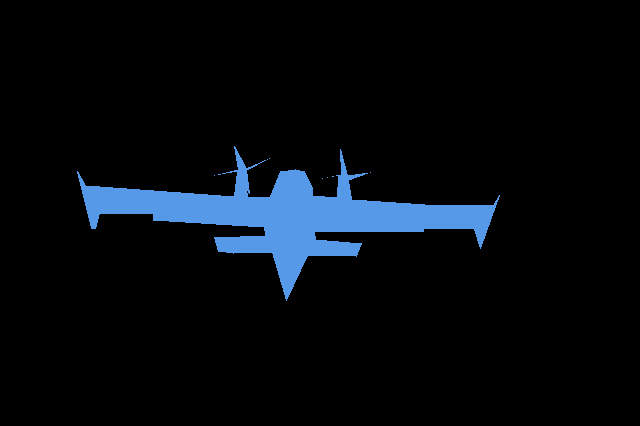Airplane: (77, 146, 500, 301)
